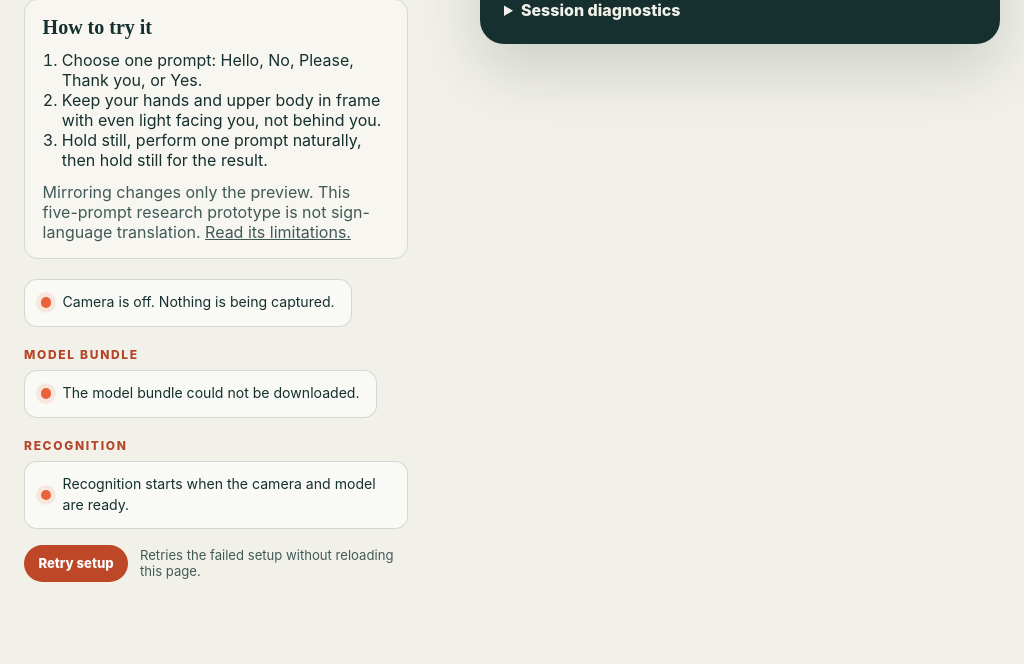
Test: model bundle status › retries a blocked bundle load without reloading the page
The width and height of the screenshot is (1024, 664).
(page scrolled)
Click the button "Retry setup". click: point(76, 563)
box: [24, 545, 128, 582]
(page scrolled)
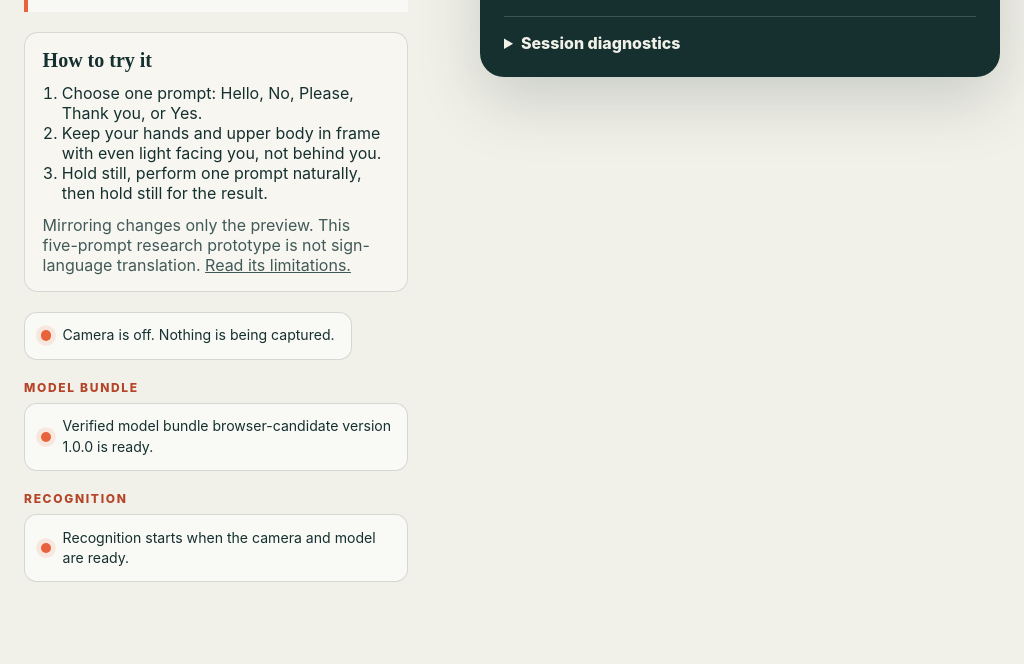
Expected: the text "Verified model bundle browser-candidate version 1.0.0 is ready." is shown, [24, 403, 408, 471]
